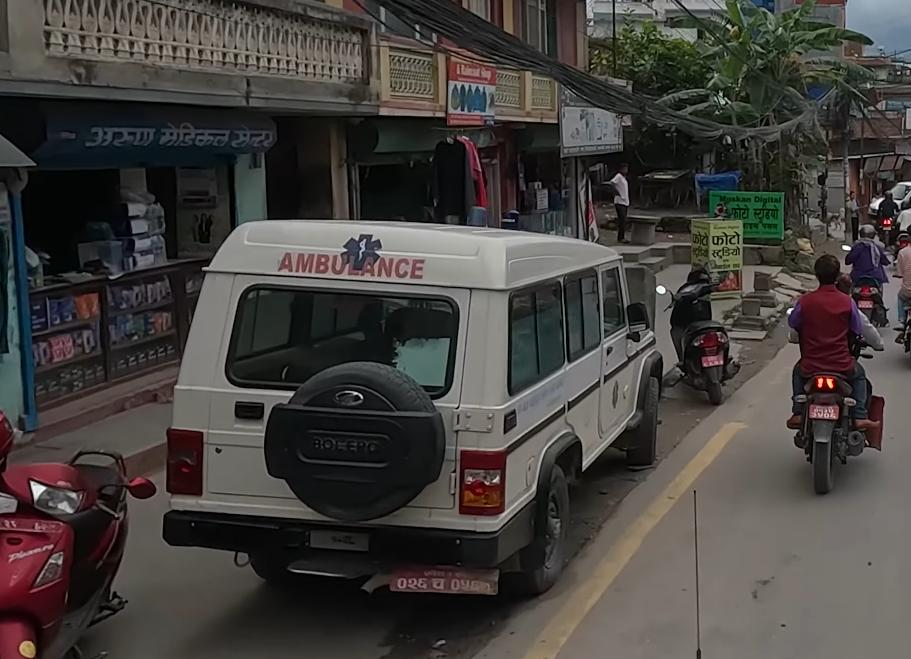ambulance: (161, 202, 673, 640)
bike: (781, 299, 886, 498)
scooter: (0, 446, 155, 659), (652, 267, 742, 409)
